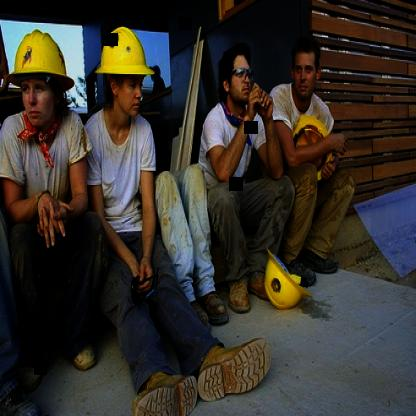head: (210, 36, 256, 108), (288, 31, 322, 100)
helmet: (1, 16, 83, 140), (89, 10, 156, 134)
